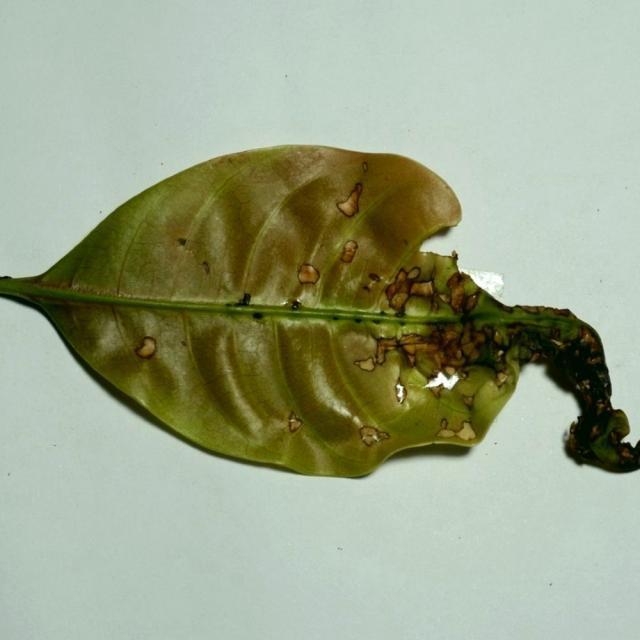Anthracnose: (404, 325, 478, 374), (383, 265, 430, 315), (367, 335, 418, 368), (444, 271, 480, 315), (426, 370, 465, 400), (435, 418, 477, 441), (336, 183, 363, 217), (482, 292, 517, 313), (578, 328, 603, 355), (358, 425, 390, 446), (297, 263, 320, 286), (134, 336, 157, 359), (566, 419, 581, 452), (617, 443, 637, 466), (340, 240, 359, 263), (287, 410, 303, 433), (363, 273, 382, 292), (447, 272, 464, 292), (355, 356, 376, 372), (230, 292, 252, 307), (469, 330, 487, 348), (426, 383, 444, 400), (515, 304, 545, 314), (385, 280, 399, 301), (580, 388, 594, 408), (394, 269, 408, 289), (578, 325, 595, 341), (395, 382, 407, 404), (611, 429, 626, 444), (493, 329, 505, 345), (549, 327, 562, 341), (406, 267, 420, 280), (595, 400, 607, 415), (590, 424, 601, 440), (553, 308, 571, 317), (530, 351, 542, 362), (202, 261, 210, 274), (177, 238, 187, 246), (451, 250, 458, 259), (574, 349, 580, 357)
Mango: (0, 145, 639, 482)
